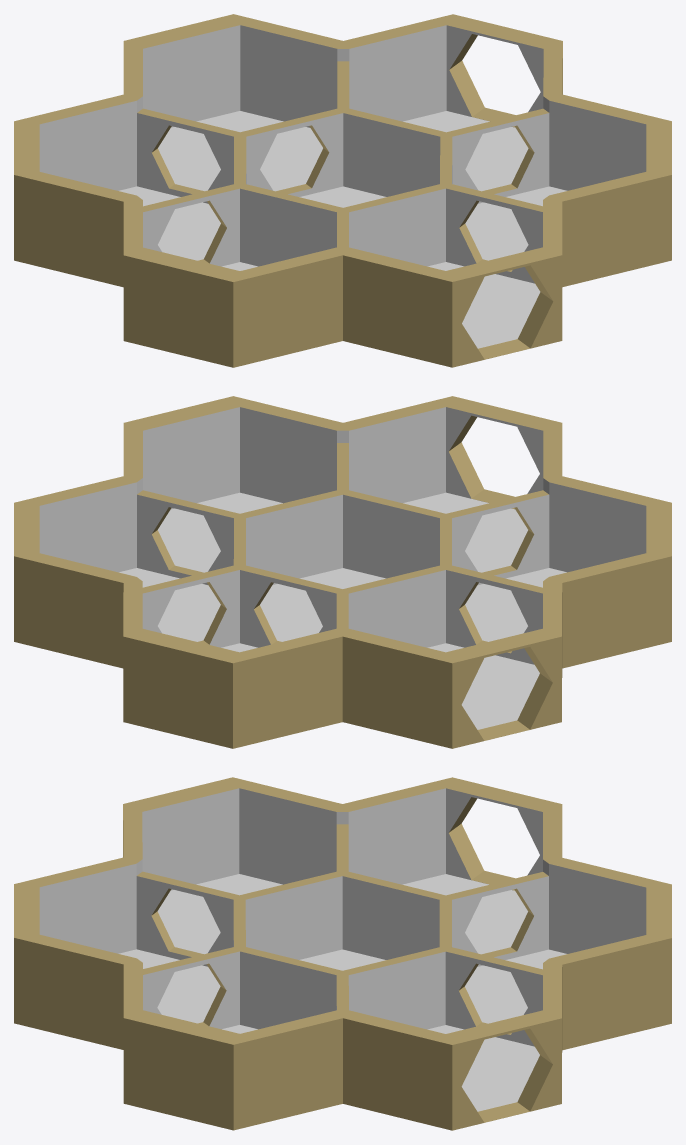
File: hive.fbx
3 renders of one model, top to bottom at view 1: azimuth 30°, elevation 25°; view 2: azimuth 150°, elevation 25°; view 3: azimuth 270°, elevation 25°, orthographic.
Parts seen in each view (by area): view 1: hive.001; view 2: hive.001; view 3: hive.001.
Part boxes in pixels (left/top/right/bottom): hive.001: left=14, top=14, right=671, bottom=367; hive.001: left=14, top=396, right=671, bottom=748; hive.001: left=14, top=777, right=671, bottom=1130.
Bounding box in the file's own units: 978 × 146 × 1016.
